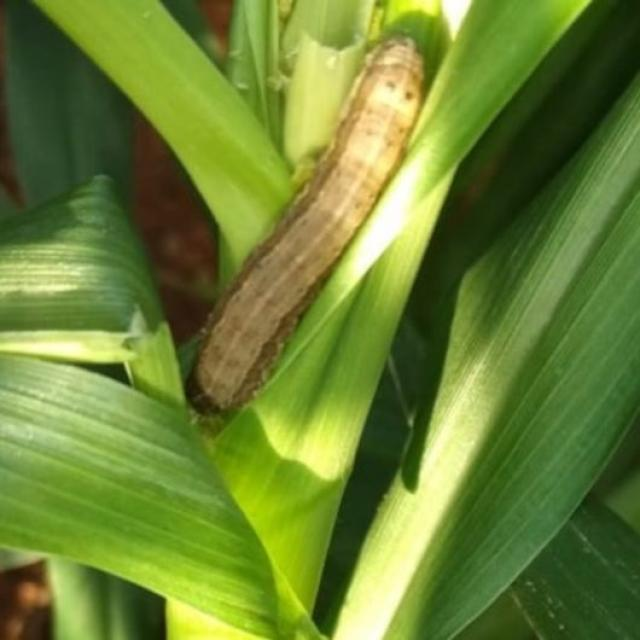Fall-armyworm: (184, 31, 452, 421)
